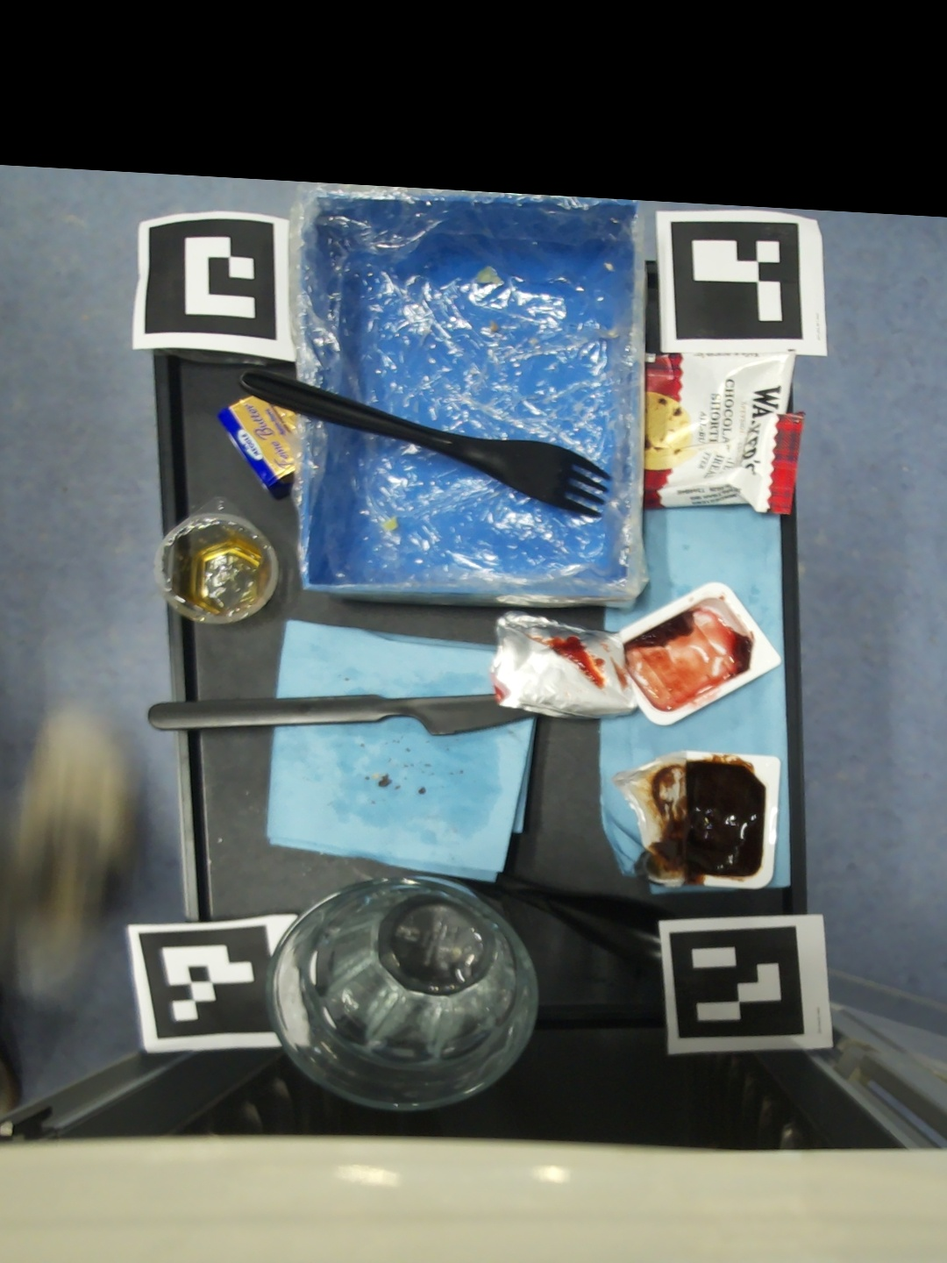butter: (218, 395, 296, 501)
cherry_jam: (489, 582, 782, 726)
cookie: (643, 353, 806, 514)
honey: (153, 496, 278, 623)
plum_jam: (612, 750, 781, 888)
water_bottle: (265, 875, 539, 1112)
wrap_half_1: (477, 267, 501, 282), (383, 517, 398, 531)
